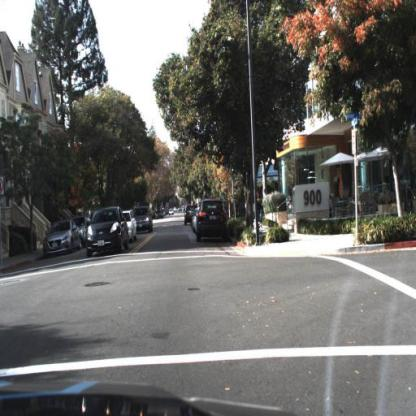car: (87, 206, 127, 253), (197, 198, 231, 247), (42, 219, 81, 254), (133, 203, 154, 236), (137, 204, 153, 234), (76, 211, 88, 250), (126, 210, 139, 243), (183, 201, 195, 228), (184, 204, 194, 231)
